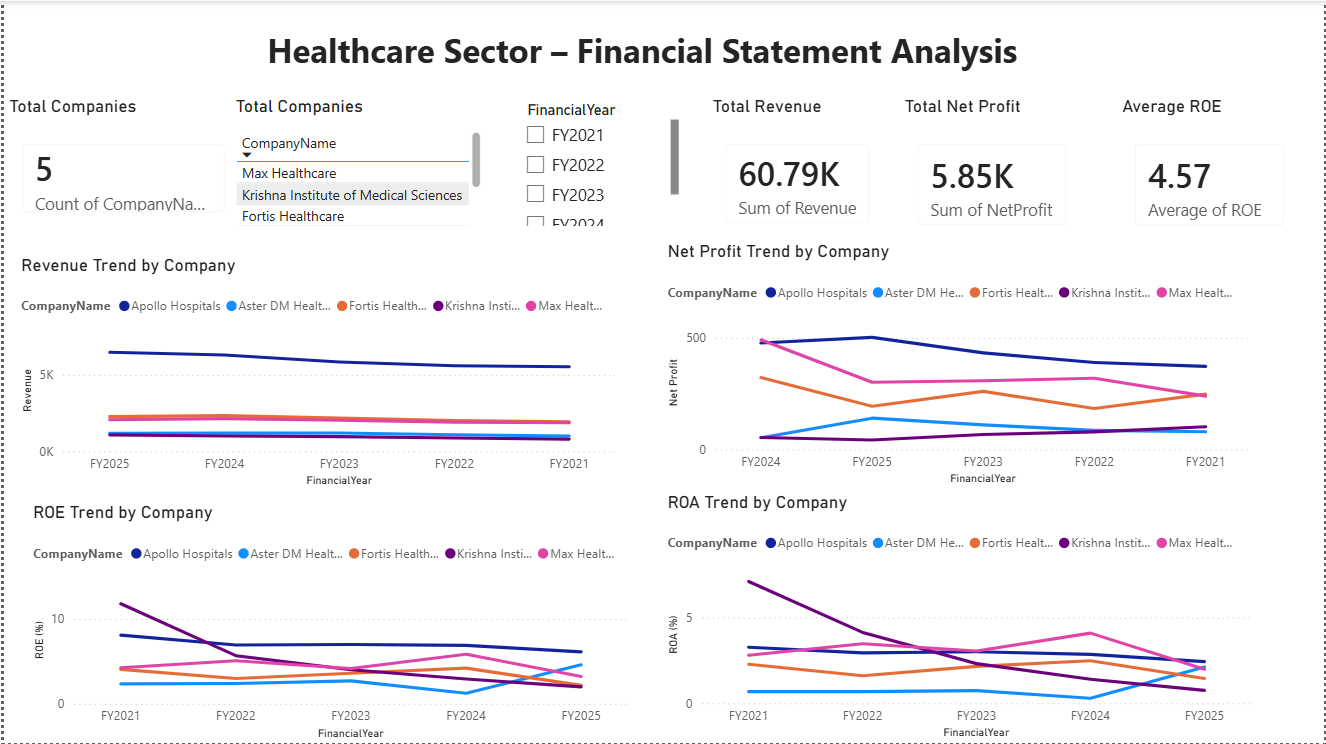

This screenshot's page, from the dashboard's own definition file:
{"tool":"powerbi","page":{"name":"Financial Overview","canvas":[1280,720],"ordinal":0},"visuals":[{"type":"cardVisual","title":"Total Companies","fields":{"Data":["Count(healthcarefinancialanalysis vw_powerbi_master.CompanyName)"]},"box":[0,92.3,231.5,131.2],"z":0},{"type":"tableEx","title":"Total Companies","fields":{"Values":["healthcarefinancialanalysis vw_powerbi_master.CompanyName"]},"box":[220.2,92.3,247.7,131.2],"z":1000},{"type":"slicer","fields":{"Values":["healthcarefinancialanalysis vw_powerbi_master.FinancialYear"]},"box":[495.5,92.3,165.2,131.2],"z":2000},{"type":"lineChart","title":"Revenue Trend by Company","fields":{"Category":["healthcarefinancialanalysis vw_powerbi_master.FinancialYear"],"Y":["Sum(healthcarefinancialanalysis vw_powerbi_master.Revenue)"],"Series":["healthcarefinancialanalysis vw_powerbi_master.CompanyName"]},"box":[11.3,246.1,586.2,229.9],"z":3000},{"type":"lineChart","title":"Net Profit Trend by Company","fields":{"Category":["healthcarefinancialanalysis vw_powerbi_master.FinancialYear"],"Y":["Sum(healthcarefinancialanalysis vw_powerbi_master.NetProfit)"],"Series":["healthcarefinancialanalysis vw_powerbi_master.CompanyName"]},"box":[639.6,233.2,574.8,241.3],"z":4000},{"type":"lineChart","title":"ROE Trend by Company","fields":{"Category":["healthcarefinancialanalysis vw_powerbi_master.FinancialYear"],"Y":["Sum(healthcarefinancialanalysis vw_powerbi_master.ROE)"],"Series":["healthcarefinancialanalysis vw_powerbi_master.CompanyName"]},"box":[22.7,485.8,586.2,234.8],"z":5000},{"type":"lineChart","title":"ROA Trend by Company","fields":{"Category":["healthcarefinancialanalysis vw_powerbi_master.FinancialYear"],"Y":["Sum(healthcarefinancialanalysis vw_powerbi_master.ROA)"],"Series":["healthcarefinancialanalysis vw_powerbi_master.CompanyName"]},"box":[639.6,476.1,574.8,244.5],"z":6000},{"type":"cardVisual","title":"Total Revenue","fields":{"Data":["Sum(healthcarefinancialanalysis vw_powerbi_master.Revenue)"]},"box":[683.3,92.3,174.9,140.9],"z":7000},{"type":"cardVisual","title":"Total Net Profit","fields":{"Data":["Sum(healthcarefinancialanalysis vw_powerbi_master.NetProfit)"]},"box":[869.5,92.3,179.7,142.5],"z":8000},{"type":"cardVisual","title":"Average ROE","fields":{"Data":["Avg(healthcarefinancialanalysis vw_powerbi_master.ROE)"]},"box":[1080,92.3,179.7,144.1],"z":9000},{"type":"textbox","box":[158.7,21,921.3,71.2],"z":10000}]}

Visuals, with their boxes in screenshot pixels (x1, y1, x2, y2), scaled from the page's 1280x720 canvas onto the 1326x744 screenshot:
"Total Companies" cardVisual: locate(0, 95, 240, 231)
"Total Companies" tableEx: locate(228, 95, 485, 231)
slicer - healthcarefinancialanalysis vw_powerbi_master.FinancialYear: locate(513, 95, 684, 231)
"Revenue Trend by Company" lineChart: locate(12, 254, 619, 492)
"Net Profit Trend by Company" lineChart: locate(663, 241, 1258, 490)
"ROE Trend by Company" lineChart: locate(24, 502, 631, 743)
"ROA Trend by Company" lineChart: locate(663, 492, 1258, 743)
"Total Revenue" cardVisual: locate(708, 95, 889, 241)
"Total Net Profit" cardVisual: locate(901, 95, 1087, 243)
"Average ROE" cardVisual: locate(1119, 95, 1305, 244)
textbox: locate(164, 22, 1119, 95)
